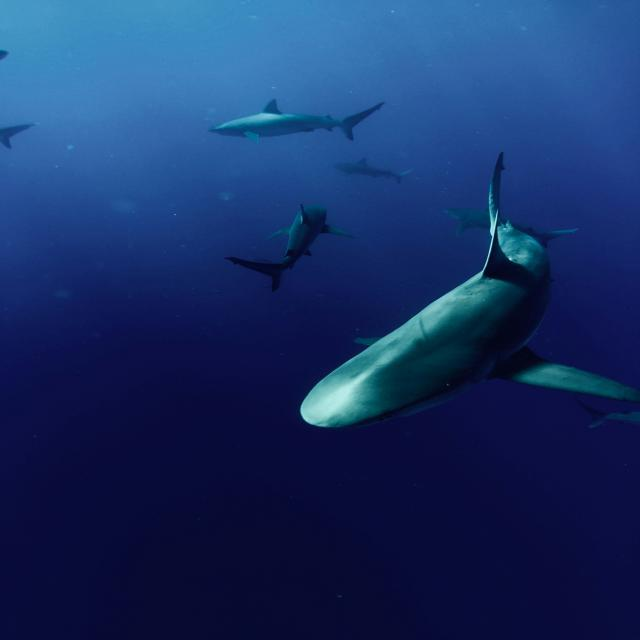gaviota: (301, 152, 640, 427), (226, 205, 350, 291), (210, 100, 383, 141), (335, 159, 410, 183)
